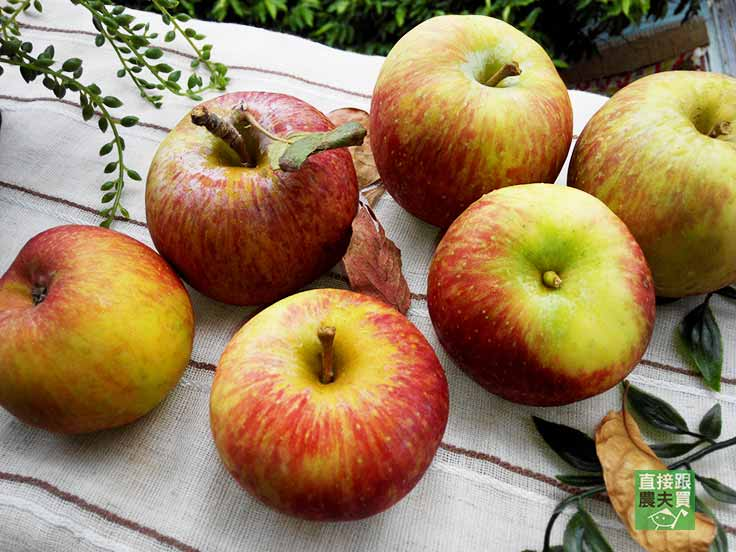apple: (213, 287, 457, 523), (427, 182, 656, 407), (147, 89, 367, 297), (1, 207, 193, 440), (370, 11, 575, 223), (576, 60, 736, 300)
